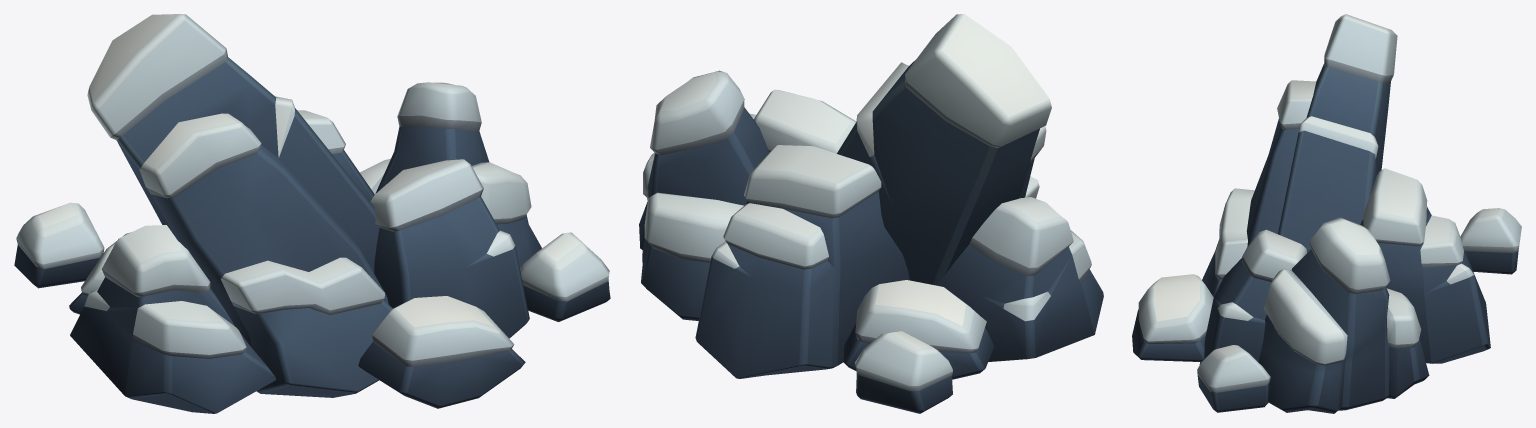
Rendered from rock_arrangement_medium_snow_2.fbx.
3 views of the same model, side by side, from view 1: azimuth 30°, elevation 25°; view 2: azimuth 150°, elevation 25°; view 3: azimuth 270°, elevation 25° (orthographic). The views are drawn at different scales.
Parts seen in each view (by area): view 1: rock_arrangement_medium_snow_2; view 2: rock_arrangement_medium_snow_2; view 3: rock_arrangement_medium_snow_2.
Boxes of the visible parts, left/top/right/bottom form: rock_arrangement_medium_snow_2: left=14, top=14, right=610, bottom=413; rock_arrangement_medium_snow_2: left=639, top=14, right=1103, bottom=413; rock_arrangement_medium_snow_2: left=1132, top=14, right=1521, bottom=413.
Size of the model in its own units: 652 by 499 by 601.
1 material, 1 textured.
